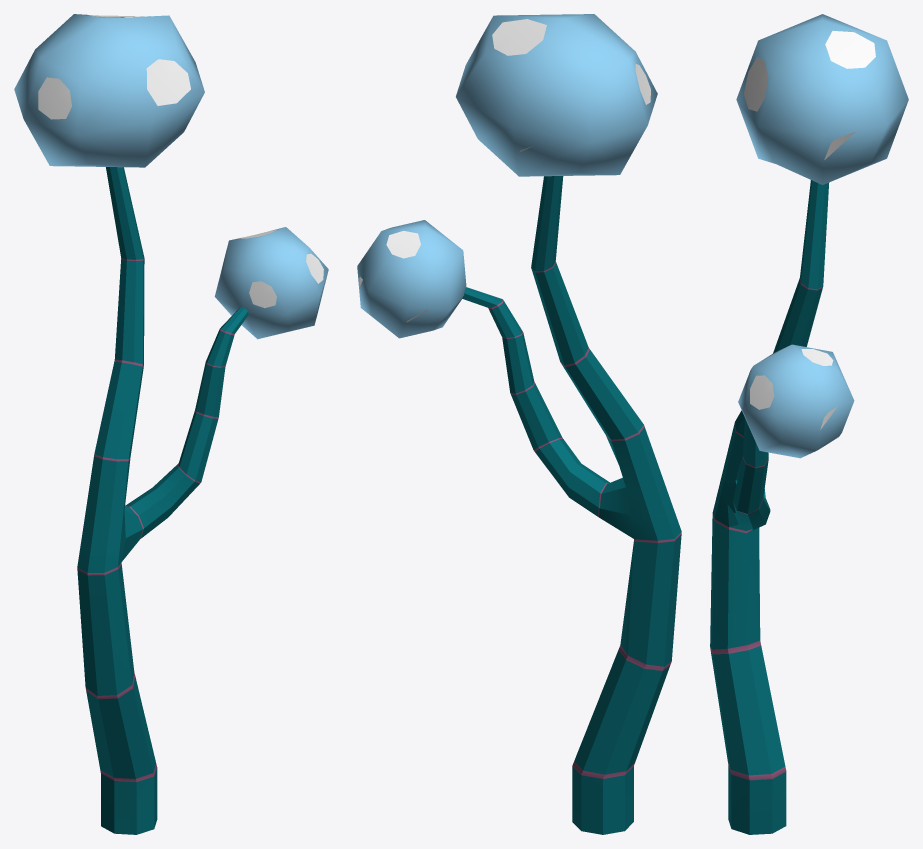
The model's file is Tree_4.fbx.
3 views of the same model, side by side, from view 1: azimuth 30°, elevation 25°; view 2: azimuth 150°, elevation 25°; view 3: azimuth 270°, elevation 25° (orthographic). The views are drawn at different scales.
Parts seen in each view (by area): view 1: Tree_4; view 2: Tree_4; view 3: Tree_4.
Boxes of the visible parts, box(x1,y1,x2,y2) form: Tree_4: box(14, 14, 328, 834); Tree_4: box(357, 14, 681, 834); Tree_4: box(710, 14, 908, 834).
Bounding box in the file's own units: 211 × 125 × 558.
